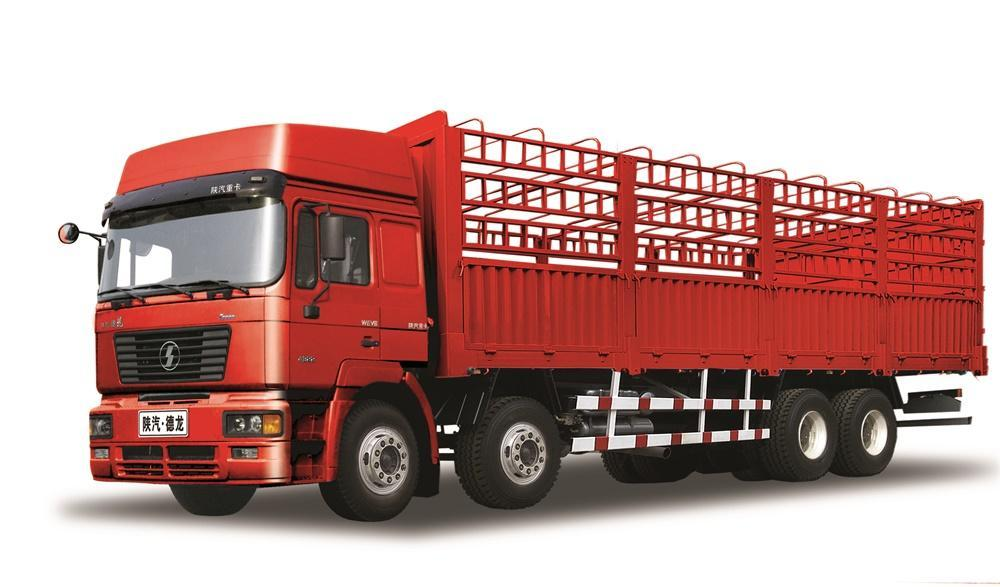truck: (57, 110, 989, 523)
